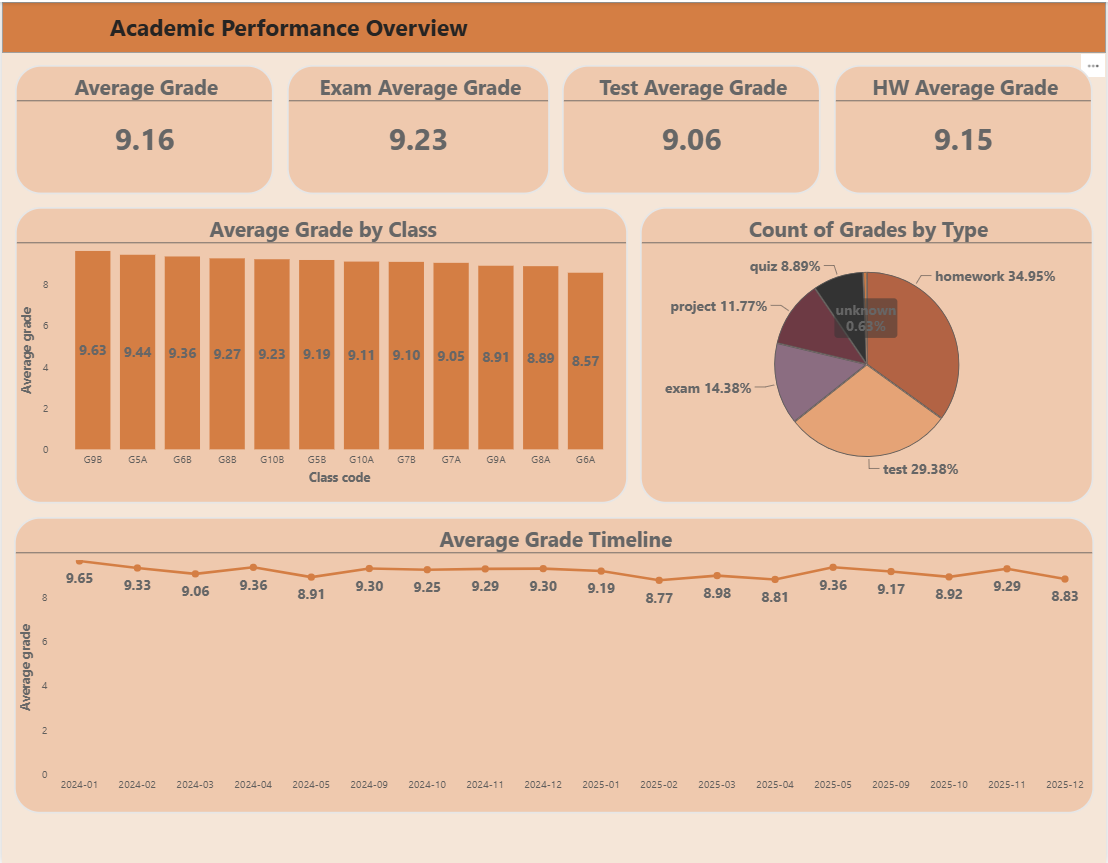

The dashboard page shown, as its layout file describes it:
{"tool":"powerbi","page":{"name":"Academic Performance Overview","canvas":[1280,1110],"ordinal":0},"visuals":[{"type":"textbox","box":[0,0,1280.5,58.6],"z":0},{"type":"card","title":"Average Grade","fields":{"Values":["Avg(grades.grade_value)"]},"box":[12.8,230.7,300.5,149.6],"z":1000},{"type":"card","title":"Exam Average Grade","fields":{"Values":["Avg(grades.grade_value)"]},"box":[328.2,230.7,305.5,149.6],"z":2000},{"type":"card","title":"Test Average Grade","fields":{"Values":["Avg(grades.grade_value)"]},"box":[647.4,230.7,300.5,149.6],"z":3000},{"type":"card","title":"HW Average Grade","fields":{"Values":["Avg(grades.grade_value)"]},"box":[962.9,230.7,300.5,149.6],"z":4000},{"type":"clusteredColumnChart","title":"Average Grade by Class","fields":{"Y":["Avg(grades.grade_value)"],"Category":["classes.class_code"]},"box":[15,395,710.7,344.1],"z":5000},{"type":"lineChart","title":"Average Grade Timeline","fields":{"Category":["Calendar.Year_Month"],"Y":["Avg(grades.grade_value)"]},"box":[12,754.1,1252.4,344.1],"z":6000},{"type":"pieChart","title":"Count of Grades by Type","fields":{"Y":["CountNonNull(grades.grade_value)"],"Category":["grades.grade_type"]},"box":[740.6,395,526.7,344.1],"z":7000},{"type":"pageNavigator","box":[15.1,66.5,1249.8,58.5],"z":8000},{"type":"slicer","fields":{"Values":["grades.grade_type"]},"box":[435.4,125,406.2,87.7],"z":9000},{"type":"slicer","fields":{"Values":["periods.academic_year"]},"box":[15.1,125,406.2,87.7],"z":10000},{"type":"slicer","fields":{"Values":["subjects.department_hint"]},"box":[859.7,125,406.2,87.7],"z":11000}]}

Visuals, with their boxes on the page's 1280x1110 design canvas (x1, y1, x2, y2). These are canvas units, not pixel positions in the 1108x863 screenshot, which may show the page scaled, cropped or inside an application window:
textbox: x1=0 y1=0 x2=1280 y2=59
"Average Grade" card: x1=13 y1=231 x2=313 y2=380
"Exam Average Grade" card: x1=328 y1=231 x2=634 y2=380
"Test Average Grade" card: x1=647 y1=231 x2=948 y2=380
"HW Average Grade" card: x1=963 y1=231 x2=1263 y2=380
"Average Grade by Class" clusteredColumnChart: x1=15 y1=395 x2=726 y2=739
"Average Grade Timeline" lineChart: x1=12 y1=754 x2=1264 y2=1098
"Count of Grades by Type" pieChart: x1=741 y1=395 x2=1267 y2=739
pageNavigator: x1=15 y1=66 x2=1265 y2=125
slicer - grades.grade_type: x1=435 y1=125 x2=842 y2=213
slicer - periods.academic_year: x1=15 y1=125 x2=421 y2=213
slicer - subjects.department_hint: x1=860 y1=125 x2=1266 y2=213
